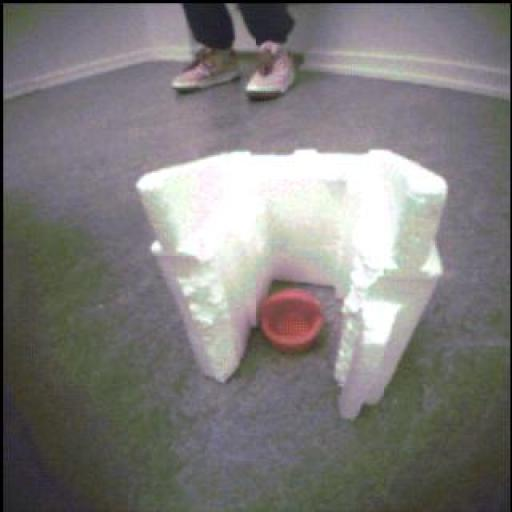Bucket: (261, 290, 326, 360)
